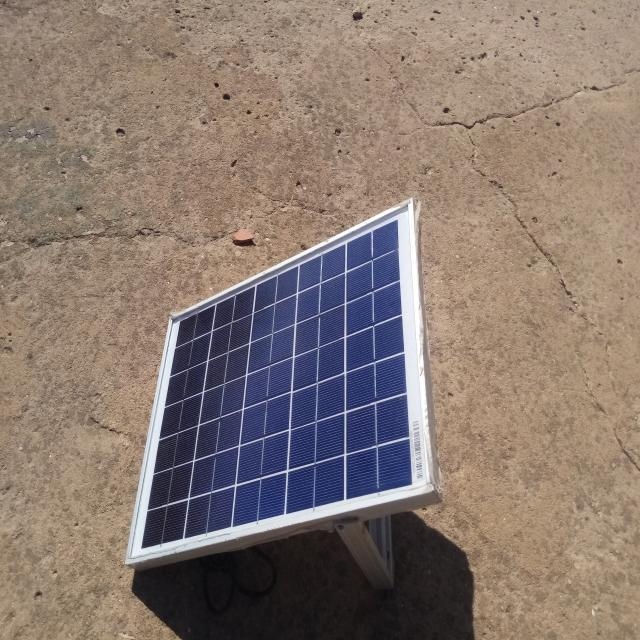Normal Solar Panel: (129, 203, 435, 556)
